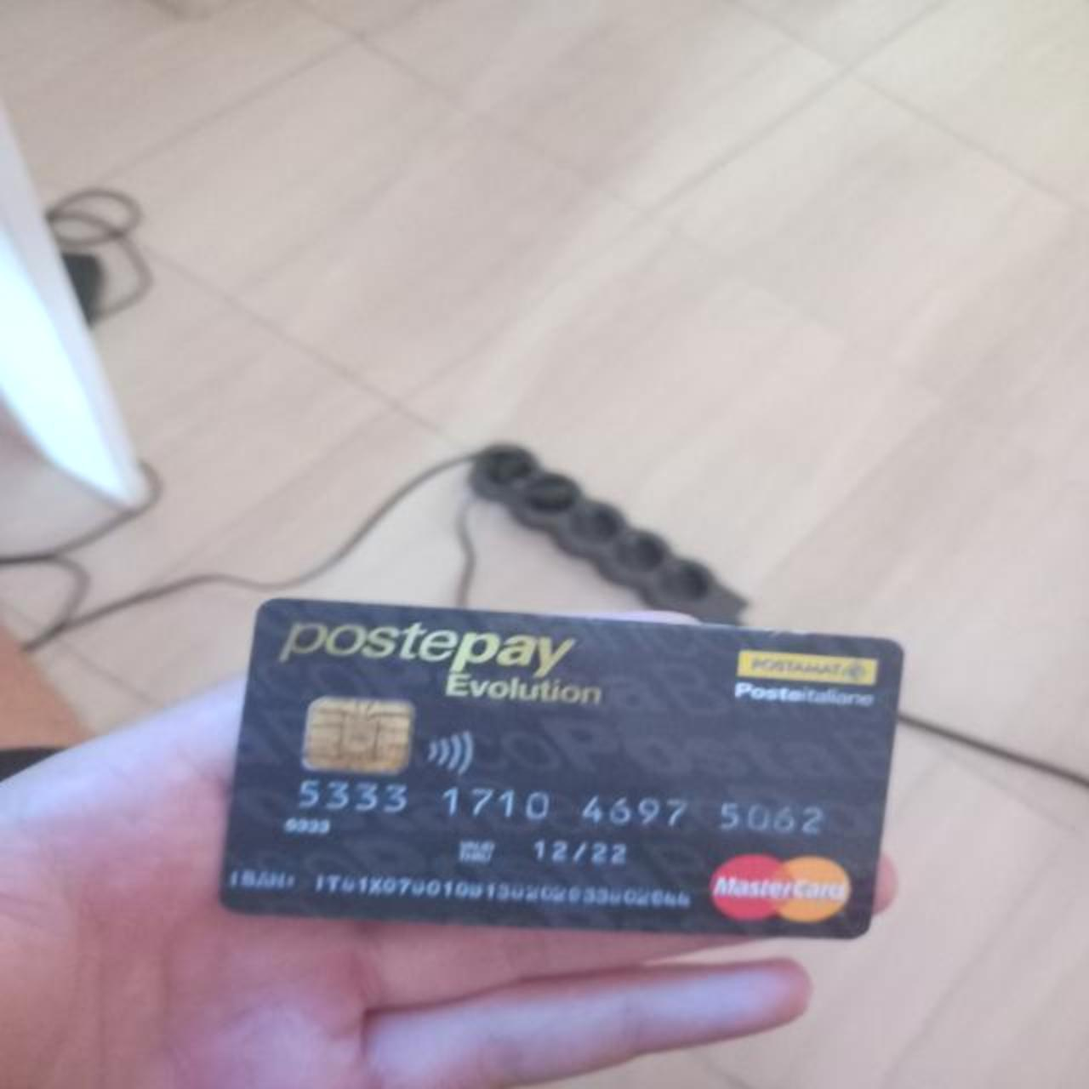credit_card: (208, 579, 915, 960)
